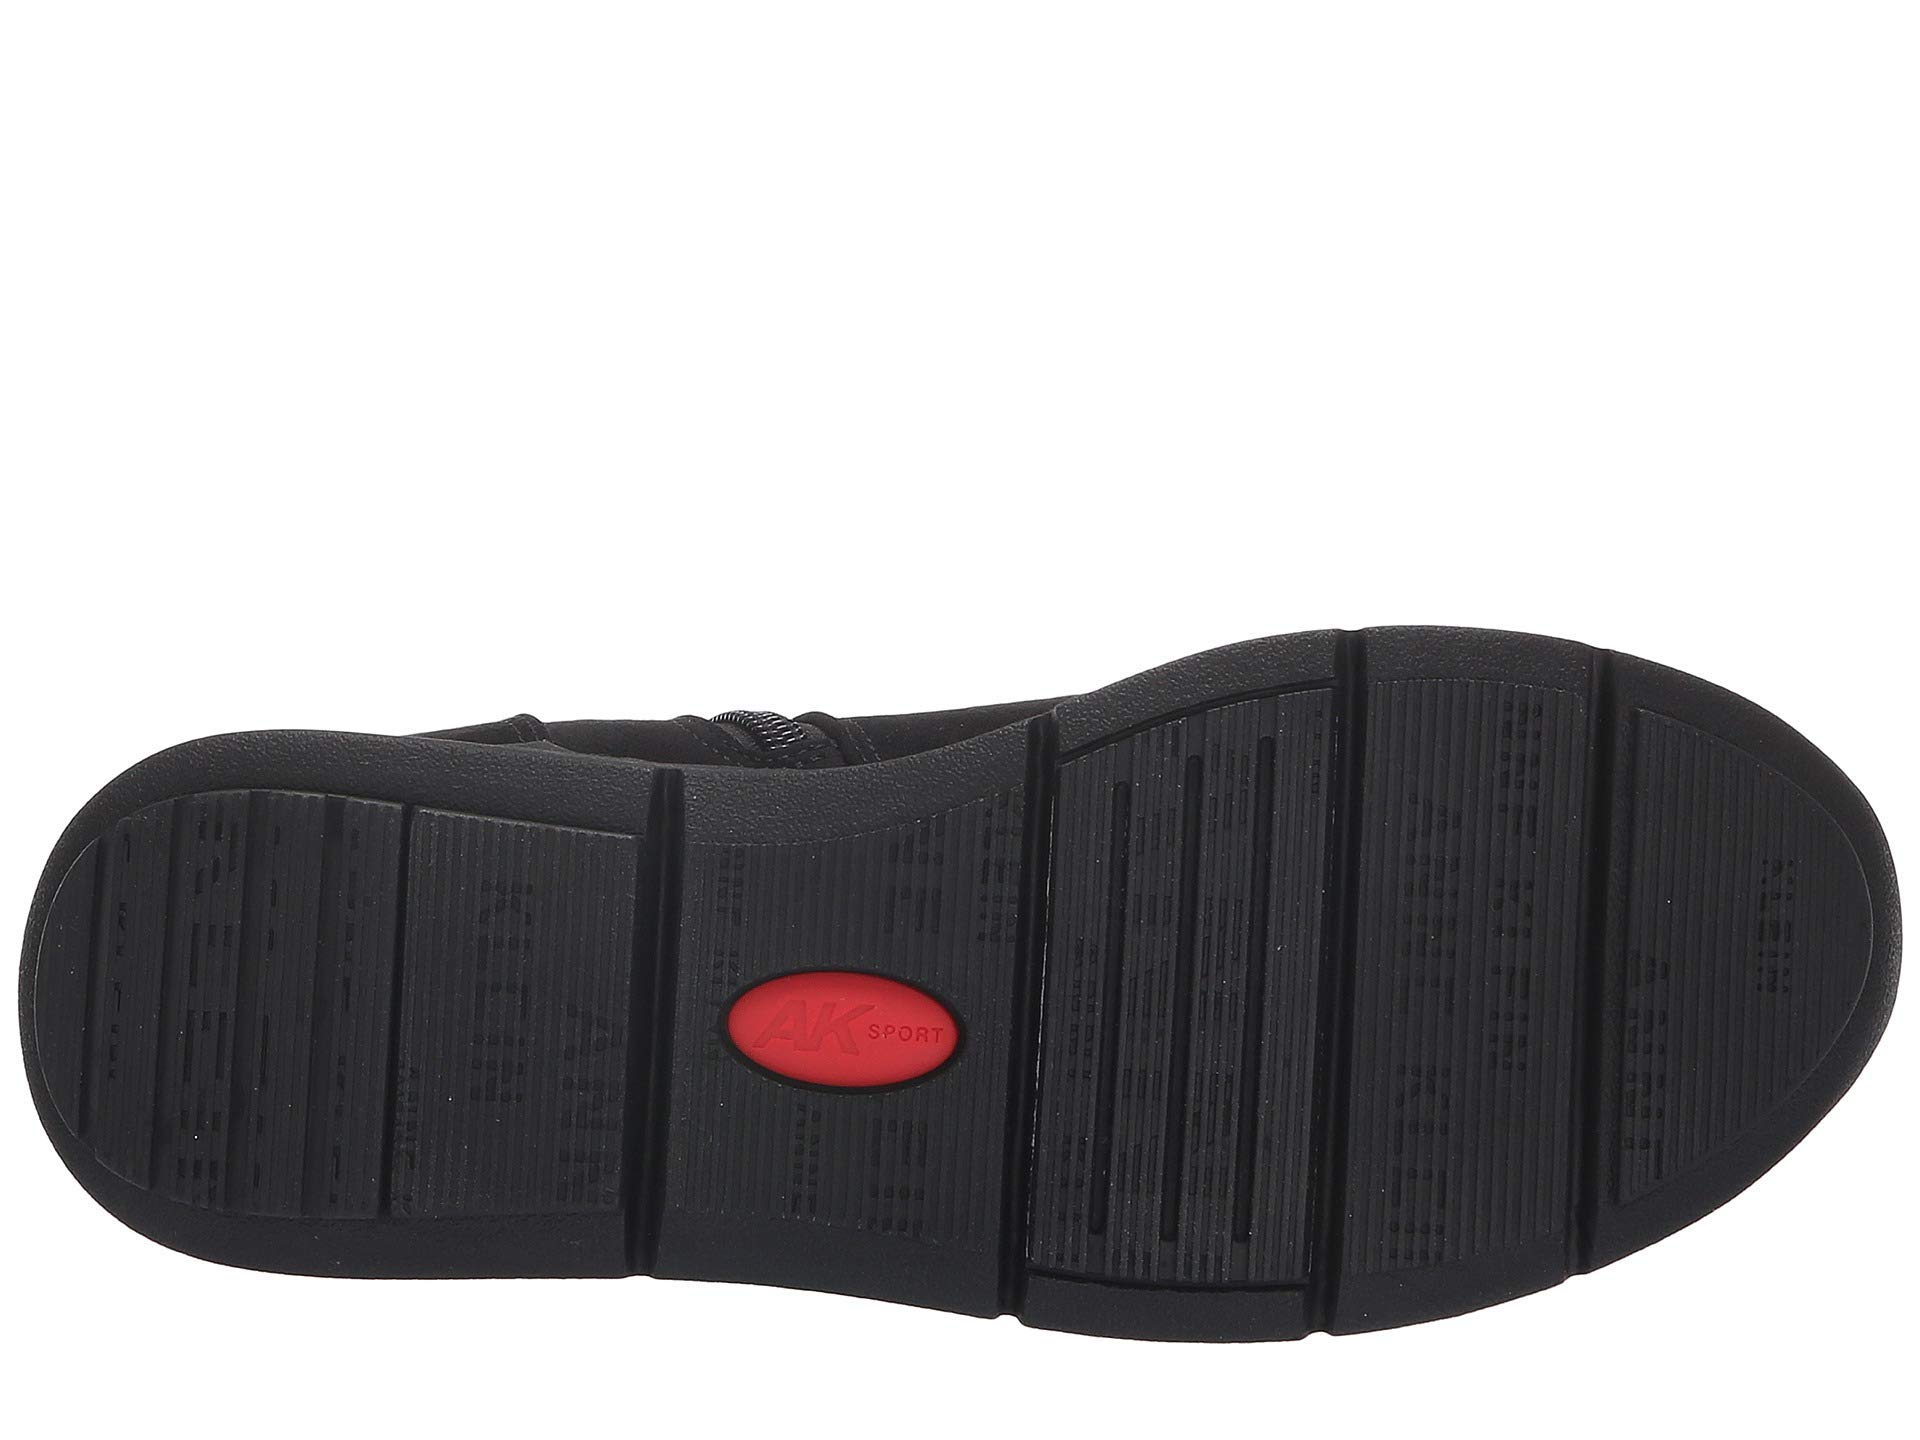circle: (715, 930, 980, 1107)
exclude: (389, 669, 1119, 770)
quad: (1321, 644, 1575, 1295), (1092, 708, 1311, 1308), (379, 797, 647, 1248), (1609, 702, 1853, 1183), (97, 805, 376, 1210)
text: (1321, 644, 1575, 1295), (1092, 708, 1311, 1308), (379, 797, 647, 1248), (1609, 702, 1853, 1183), (97, 805, 376, 1210), (715, 930, 980, 1107)
